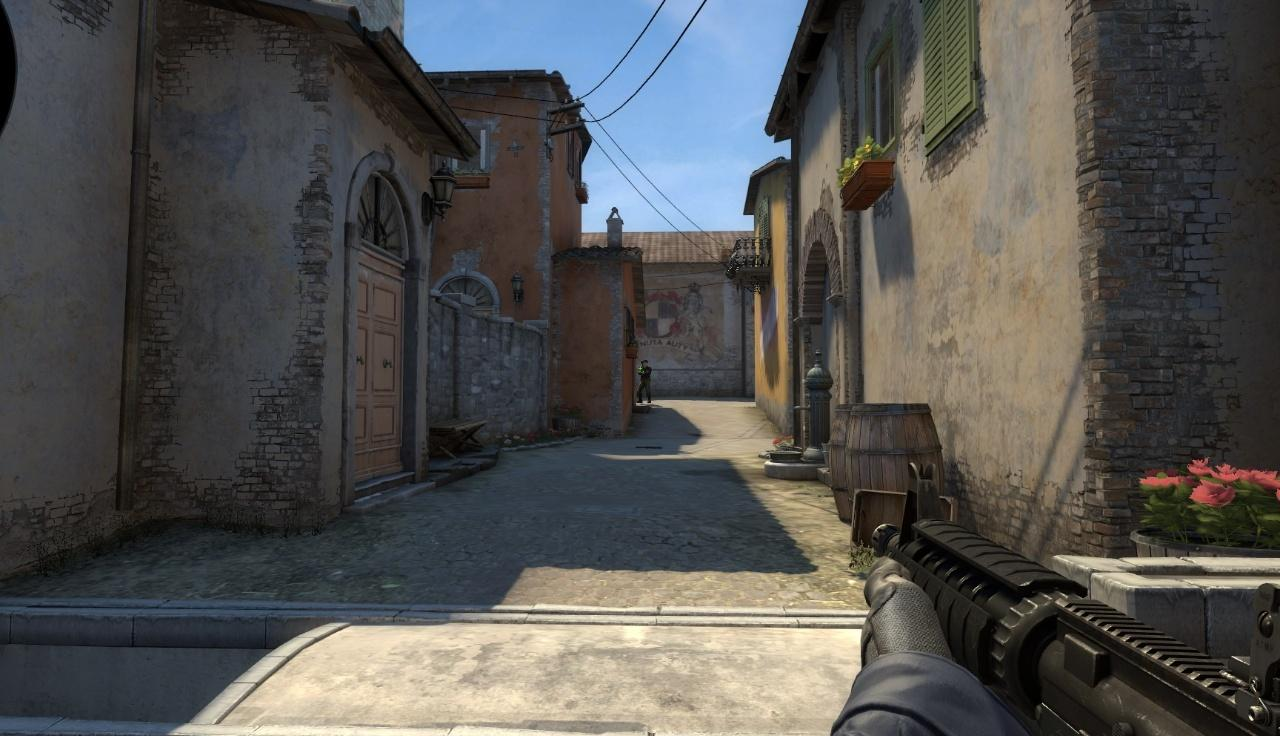rifle: (861, 466, 1280, 736)
tt: (639, 360, 651, 402)
tthead: (641, 360, 648, 368)
